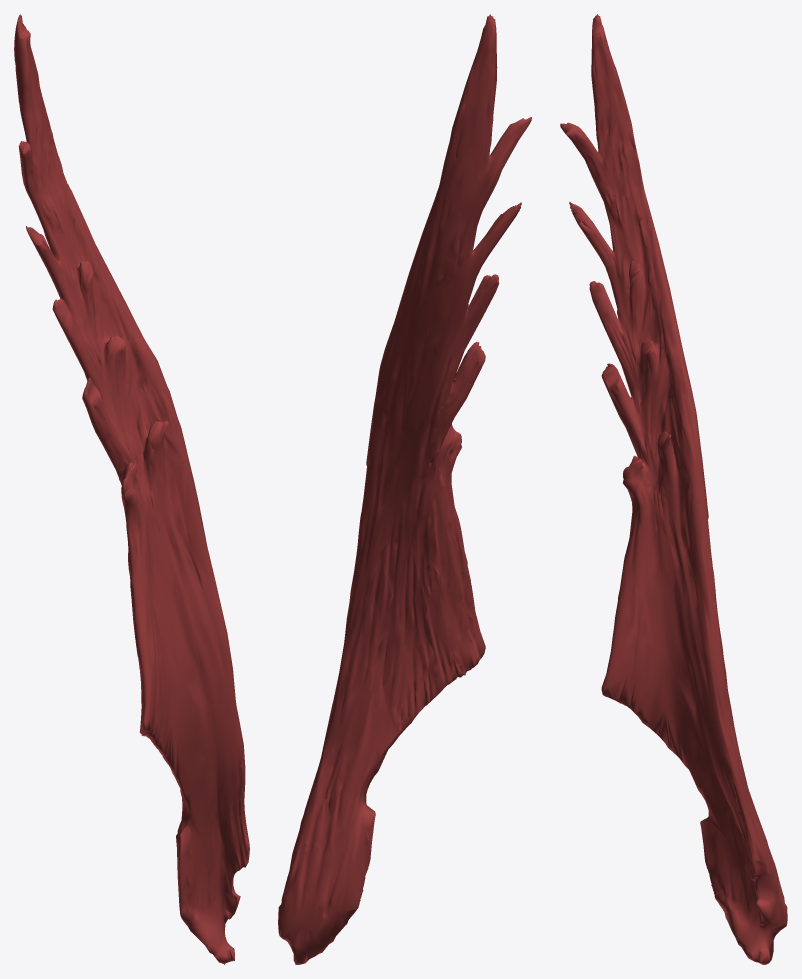
Rendered from iliocostalis-lumborum-muscle-r.glb.
The picture shows the model from 3 angles, left to right: view 1: azimuth 30°, elevation 25°; view 2: azimuth 150°, elevation 25°; view 3: azimuth 330°, elevation 25°; orthographic projection. The views are drawn at different scales.
Visible parts, largest first — view 1: Iliocostalis lumborum muscle.r; view 2: Iliocostalis lumborum muscle.r; view 3: Iliocostalis lumborum muscle.r.
Part boxes in pixels (x1=…): Iliocostalis lumborum muscle.r: x1=14, y1=14, x2=249, y2=964; Iliocostalis lumborum muscle.r: x1=278, y1=14, x2=531, y2=964; Iliocostalis lumborum muscle.r: x1=560, y1=14, x2=787, y2=964.
Size of the model in its own units: 0.0946 by 0.3903 by 0.0475.
